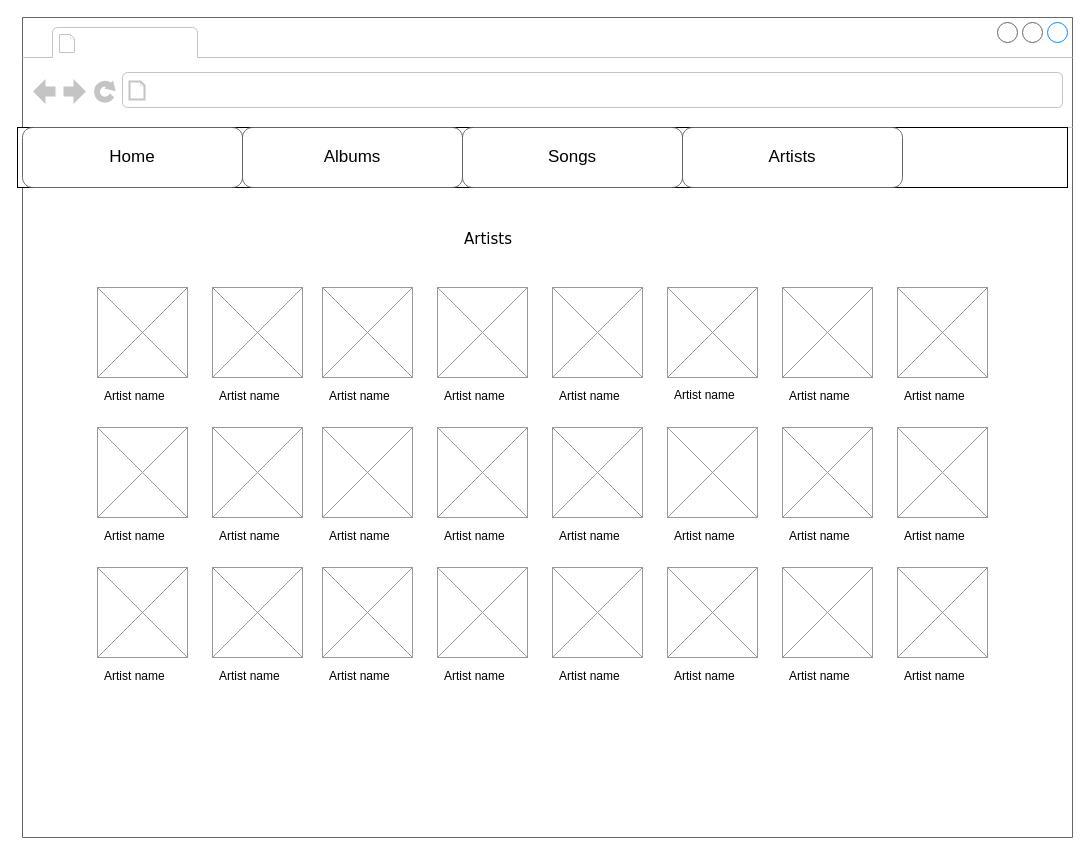
Image size: 1090x855. Some labels were removed from this diagram. The shapes that lost their labels are listed below. From the top down, each one's centre as x and y in pixels, then its label:
point (137, 42): Page 1
point (277, 90): https://www.default.com/artists
